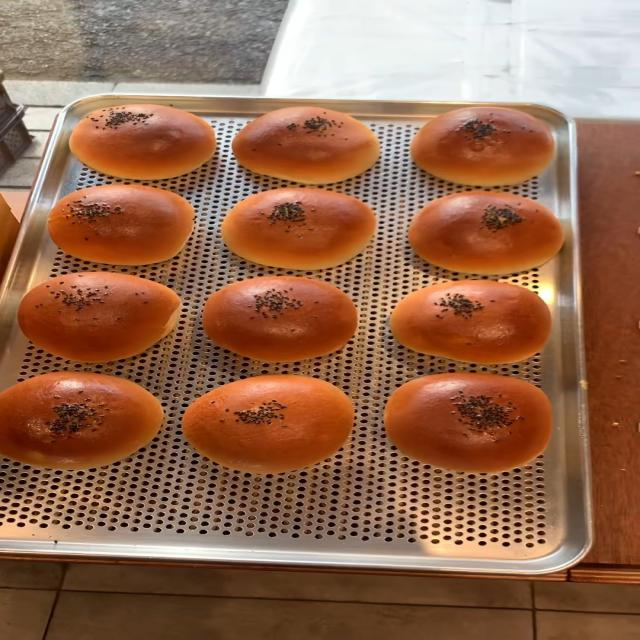bread: (381, 370, 557, 473), (180, 376, 353, 472), (1, 374, 162, 468), (198, 273, 364, 364), (12, 269, 179, 357), (405, 189, 570, 276), (387, 277, 551, 364), (219, 185, 381, 271), (43, 183, 195, 263), (407, 104, 557, 185), (67, 102, 221, 179), (233, 104, 383, 182)
